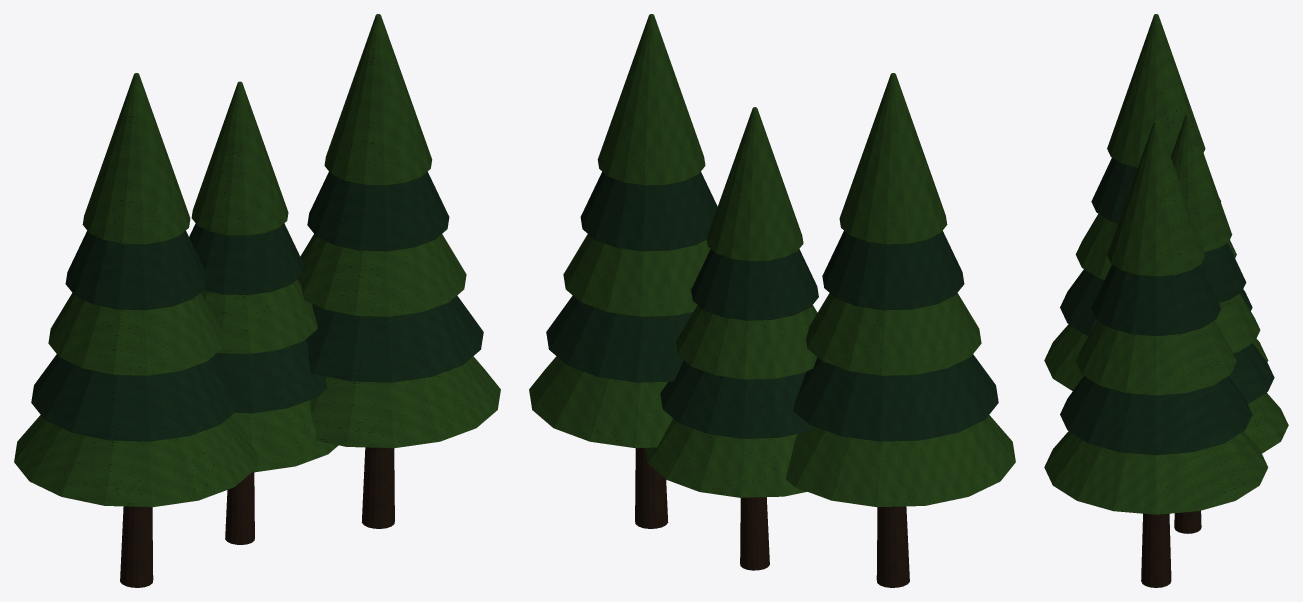
Rendered from PROP-97E77F35FC57_lod0.glb.
3 views of the same model, side by side, from view 1: azimuth 30°, elevation 25°; view 2: azimuth 150°, elevation 25°; view 3: azimuth 270°, elevation 25° (orthographic). The views are drawn at different scales.
Visible parts, largest first — view 1: layered_conifer_crown.012, layered_conifer_crown.013, trunk.007; view 2: layered_conifer_crown.012, layered_conifer_crown.013, trunk.007; view 3: layered_conifer_crown.012, layered_conifer_crown.013, trunk.007.
Boxes of the visible parts, x1,y1,x2,y2 form: layered_conifer_crown.012: (14, 14, 500, 507); layered_conifer_crown.013: (31, 171, 483, 441); trunk.007: (120, 447, 394, 587); layered_conifer_crown.012: (529, 14, 1015, 507); layered_conifer_crown.013: (546, 171, 998, 441); trunk.007: (635, 448, 909, 587); layered_conifer_crown.012: (1044, 14, 1288, 514); layered_conifer_crown.013: (1060, 158, 1274, 455); trunk.007: (1141, 510, 1201, 587).
Bounding box in the file's own units: 7.54 × 8.03 × 3.86.
3 materials, 3 textured.
